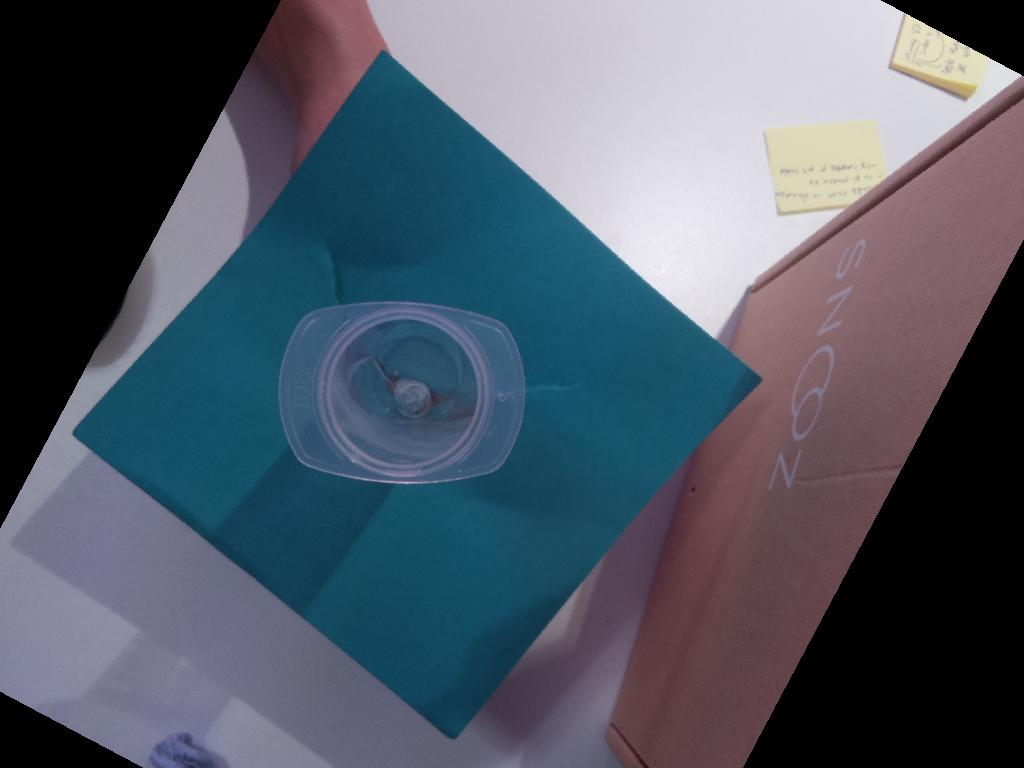clean: (274, 298, 531, 489)
